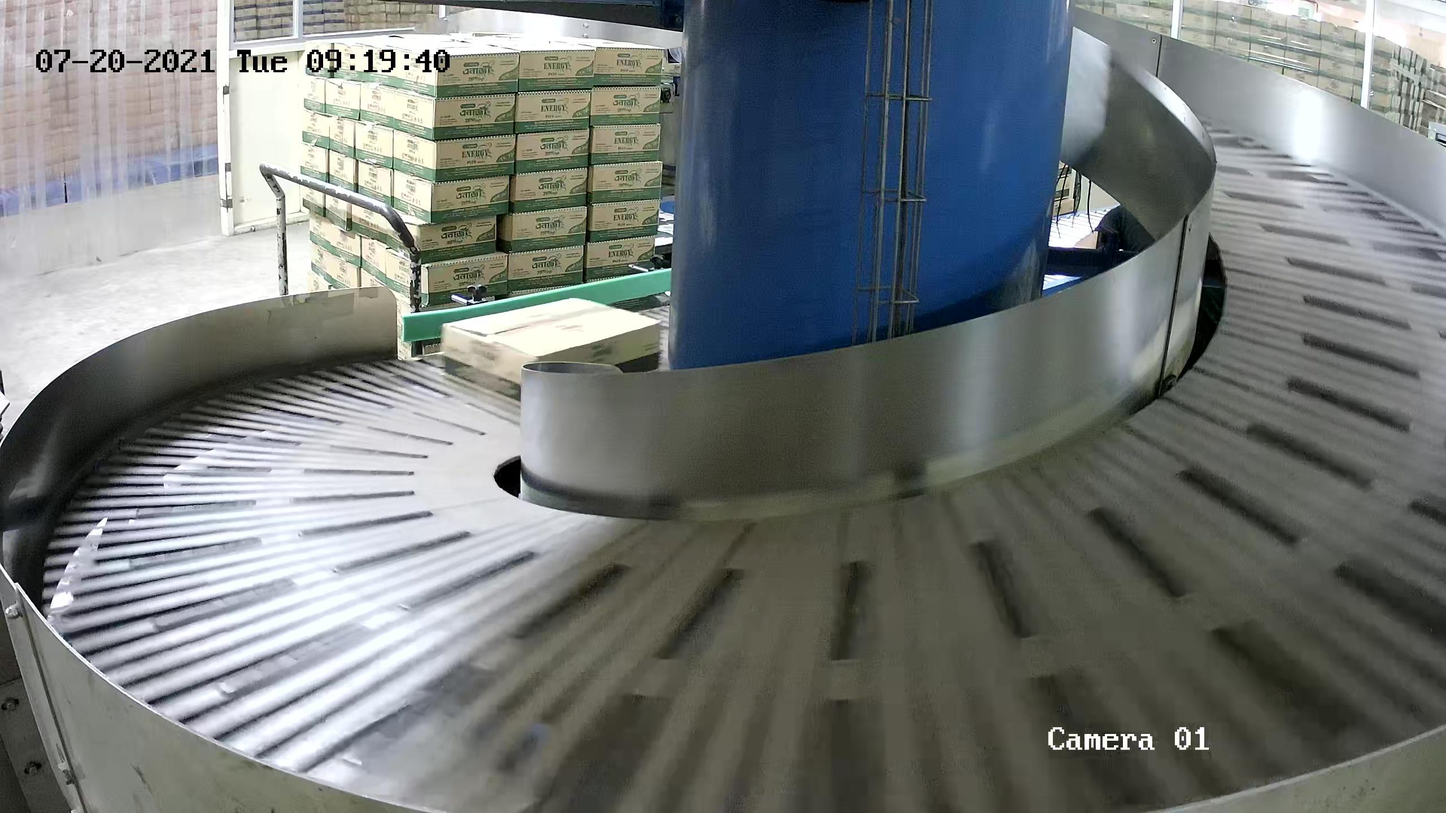Box: (440, 295, 664, 414)
